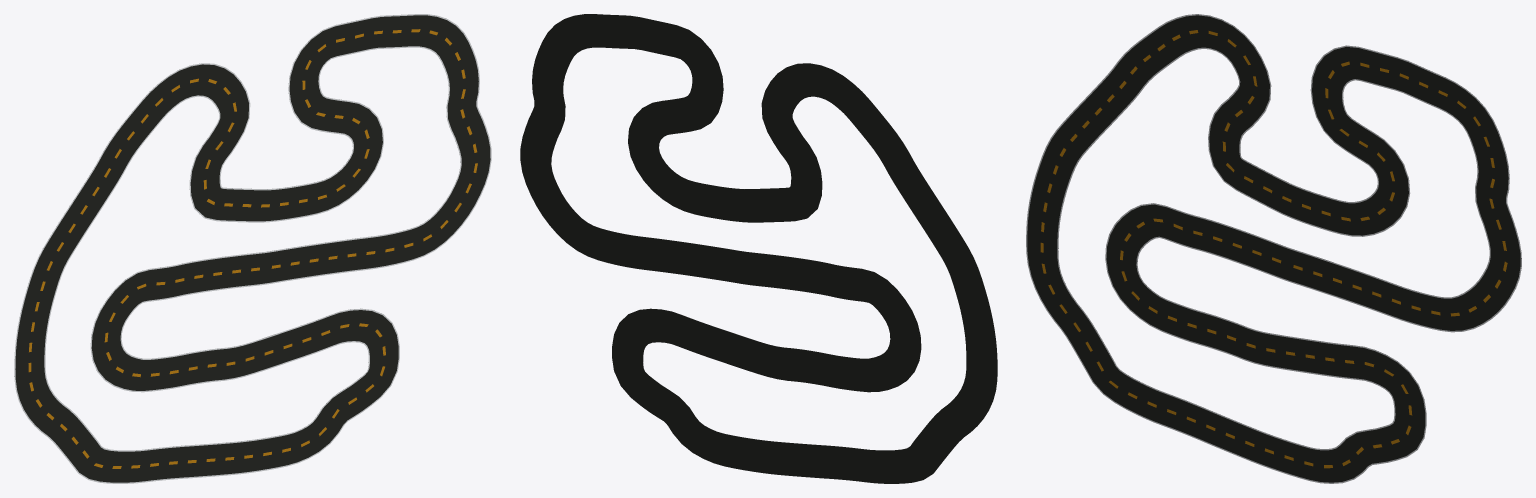
The model's file is track.obj.
3 views of the same model, side by side, from view 1: azimuth 30°, elevation 25°; view 2: azimuth 150°, elevation 25°; view 3: azimuth 330°, elevation 25° (orthographic). The views are drawn at different scales.
Bounding box in the file's own units: 16.31 × 14.03 × 0.002.
